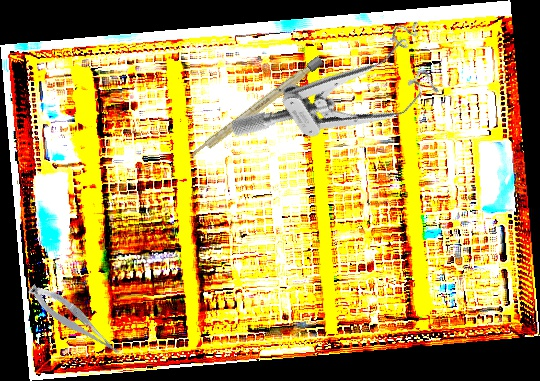Micro Scissor: (25, 274, 124, 368)
Scalpel Handle: (189, 55, 324, 161)
Speculum: (228, 4, 457, 200)
